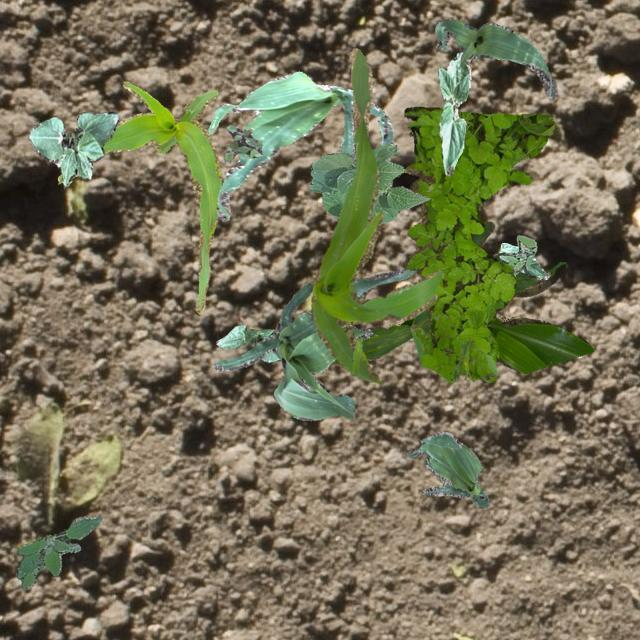crop: (310, 46, 442, 382), (330, 220, 592, 372), (56, 80, 220, 314), (212, 268, 414, 419), (208, 70, 392, 220), (434, 18, 556, 98), (307, 144, 428, 222), (28, 110, 118, 188), (406, 429, 488, 506), (436, 52, 469, 175), (214, 322, 280, 362), (492, 242, 546, 278)
weed: (402, 105, 554, 362), (15, 514, 100, 588), (409, 314, 496, 382), (498, 233, 536, 274), (224, 124, 262, 162)
